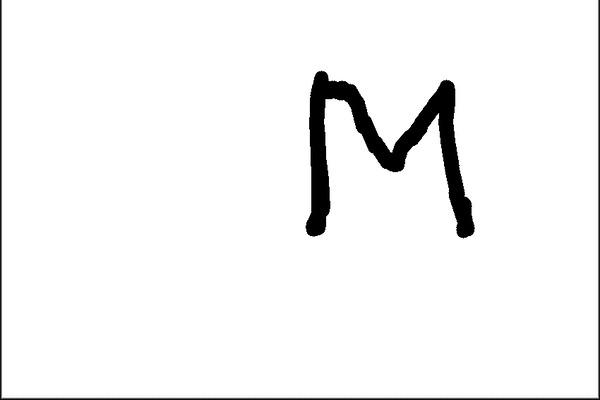M: (301, 66, 477, 242)
